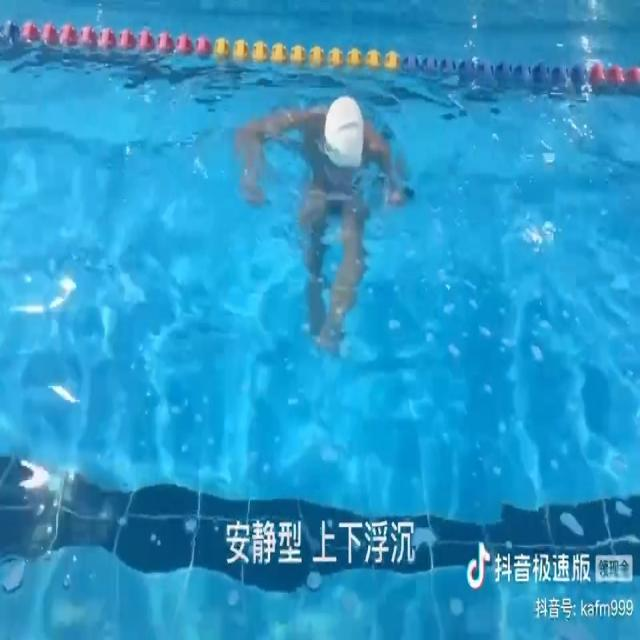Drowning: (238, 95, 412, 357)
